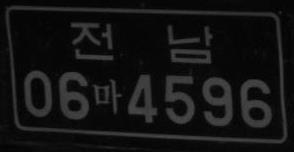0: (23, 70, 53, 118)
4: (127, 74, 157, 123)
5: (164, 74, 195, 124)
6: (239, 78, 273, 128), (58, 71, 90, 121)
9: (201, 76, 233, 127)
마: (93, 78, 121, 115)
전남_D: (69, 19, 213, 65)
